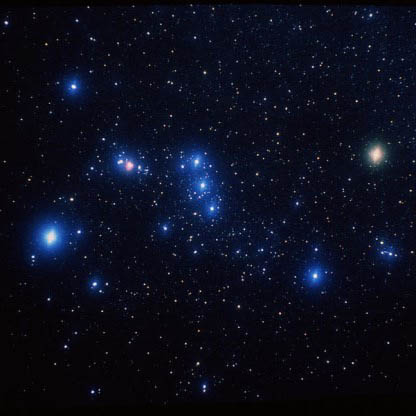Orion: (30, 215, 73, 258), (357, 133, 390, 175), (303, 258, 330, 290), (180, 176, 223, 196), (61, 72, 89, 102), (199, 196, 223, 219), (182, 150, 210, 169)
